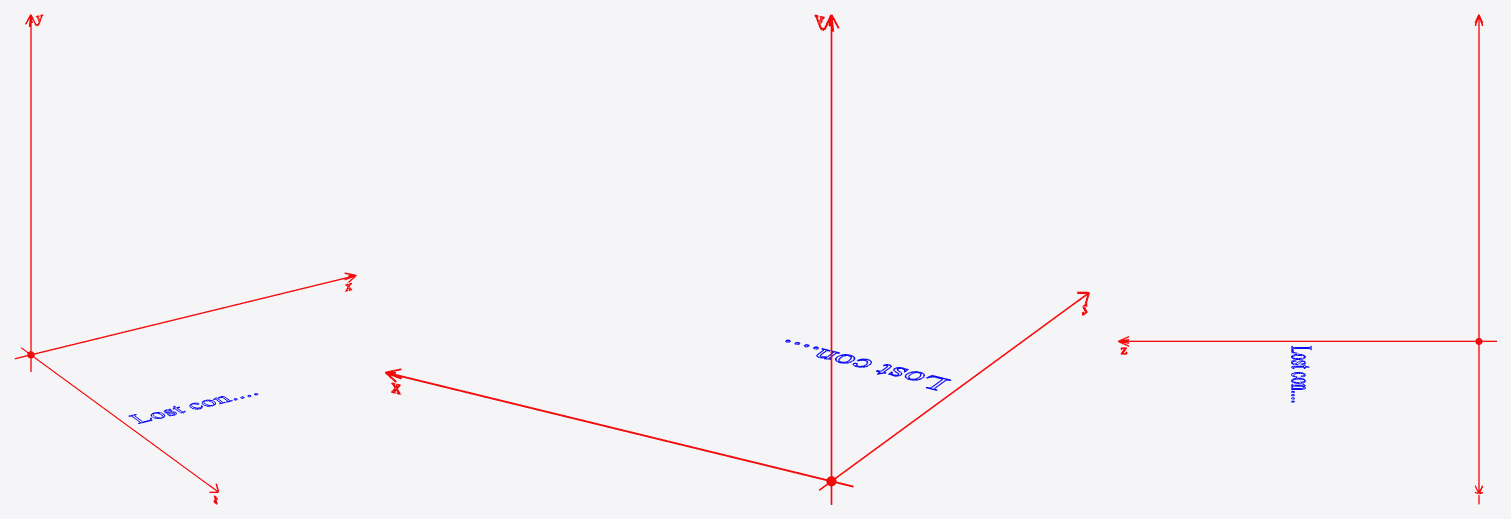
3 views of the same model, side by side, from view 1: azimuth 30°, elevation 25°; view 2: azimuth 150°, elevation 25°; view 3: azimuth 270°, elevation 25° (orthographic). The views are drawn at different scales.
Bounding box in the file's own units: 1.05 × 1.05 × 1.05.
